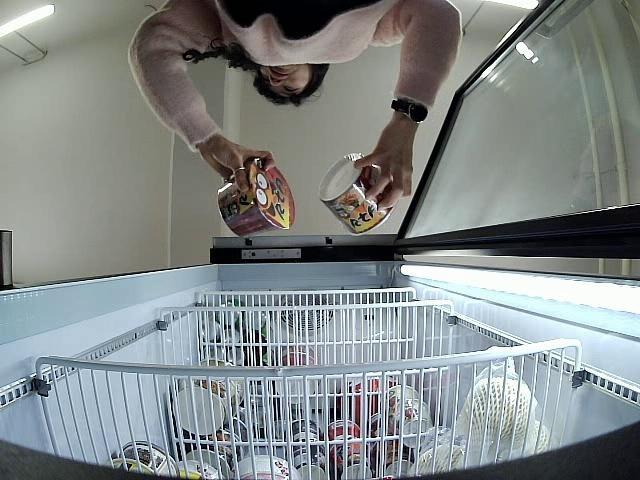05_nuguri_L: (215, 157, 296, 237), (316, 156, 394, 236)
